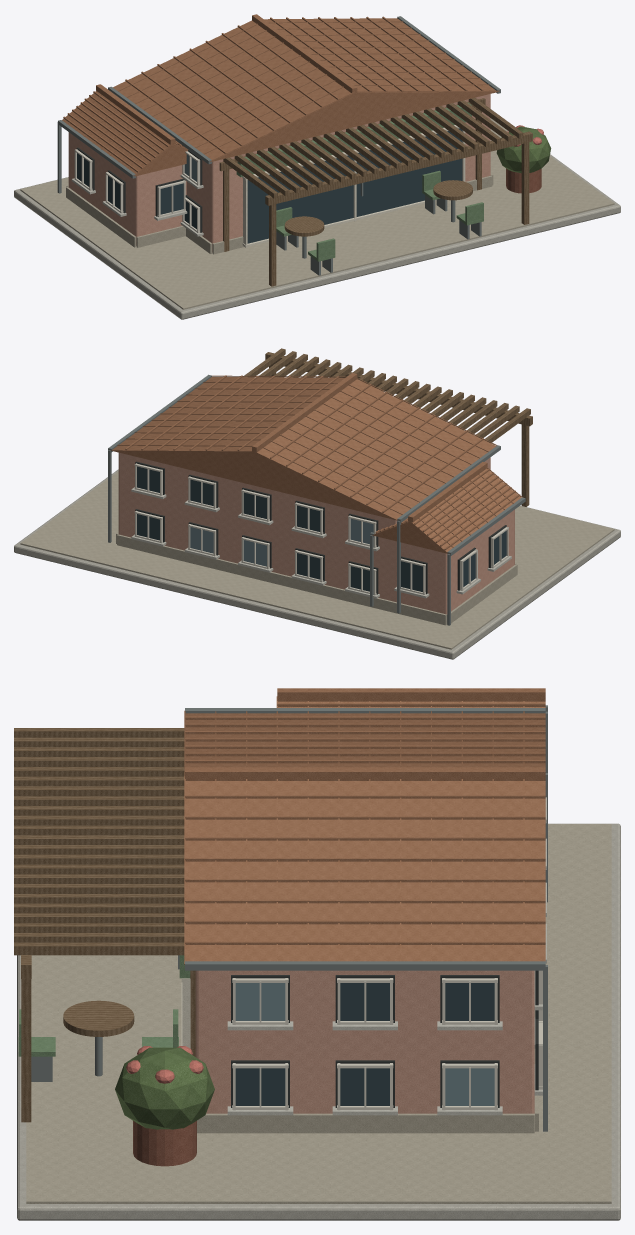
File: EXP_SHOP_TRATTORIA.glb
3 renders of one model, top to bottom at view 1: azimuth 30°, elevation 25°; view 2: azimuth 150°, elevation 25°; view 3: azimuth 270°, elevation 25°, orthographic. The views are drawn at different scales.
Parts seen in each view (by area): view 1: EXP_SHOP_TRATTORIA_Visual; view 2: EXP_SHOP_TRATTORIA_Visual; view 3: EXP_SHOP_TRATTORIA_Visual.
Part boxes in pixels (<box>): EXP_SHOP_TRATTORIA_Visual: <box>14,14,620,319</box>; EXP_SHOP_TRATTORIA_Visual: <box>14,348,620,659</box>; EXP_SHOP_TRATTORIA_Visual: <box>14,688,620,1220</box>.
Size of what is drawn, in the model's own units: 5.92 by 1.86 by 3.94.
Materials: 17 (12 with a texture image).
